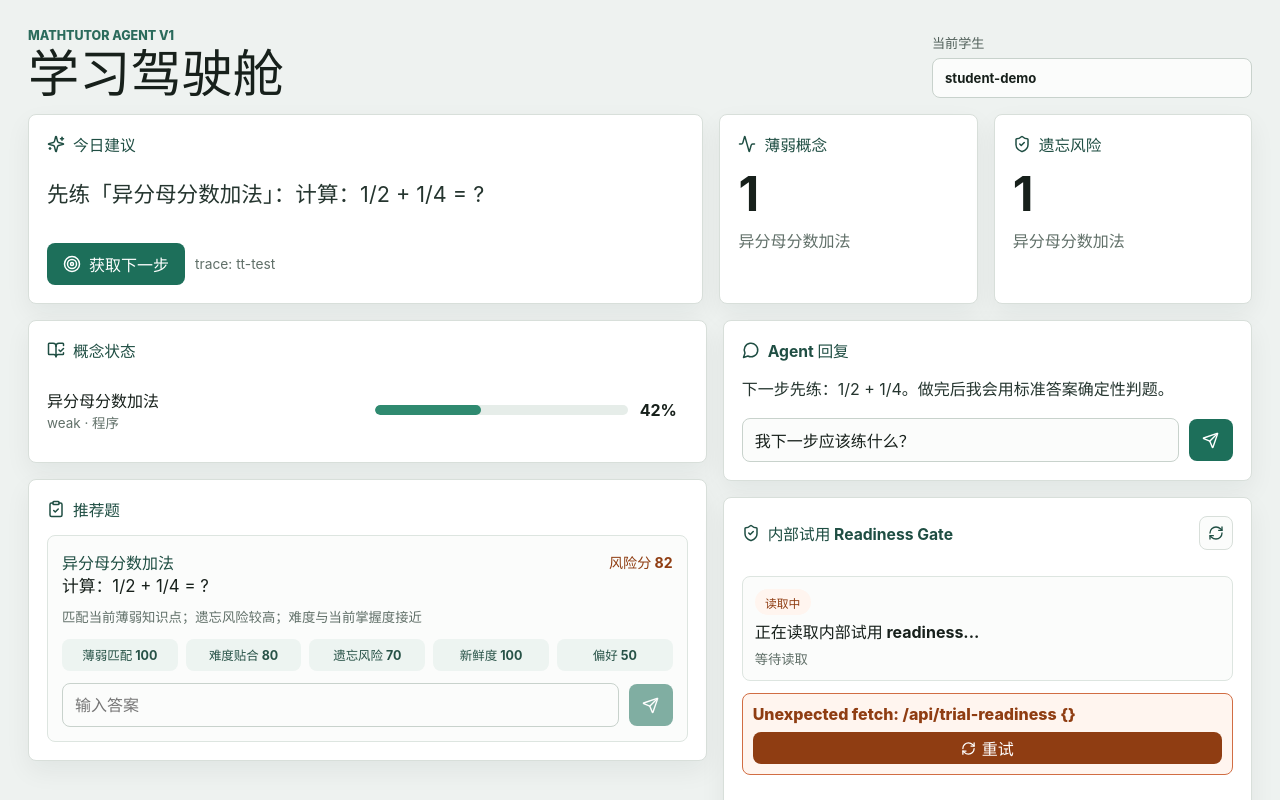
Scenario: 学习驾驶舱 › Provider Health 降级时仍可用 fallback 提交推荐题答案
Expected: the text "计算：1/2 + 1/4 = ?" is shown, [62,576,209,596]
In the field named "q_frac_001 答案": (340,705) [62,683,619,727], type "3/4"
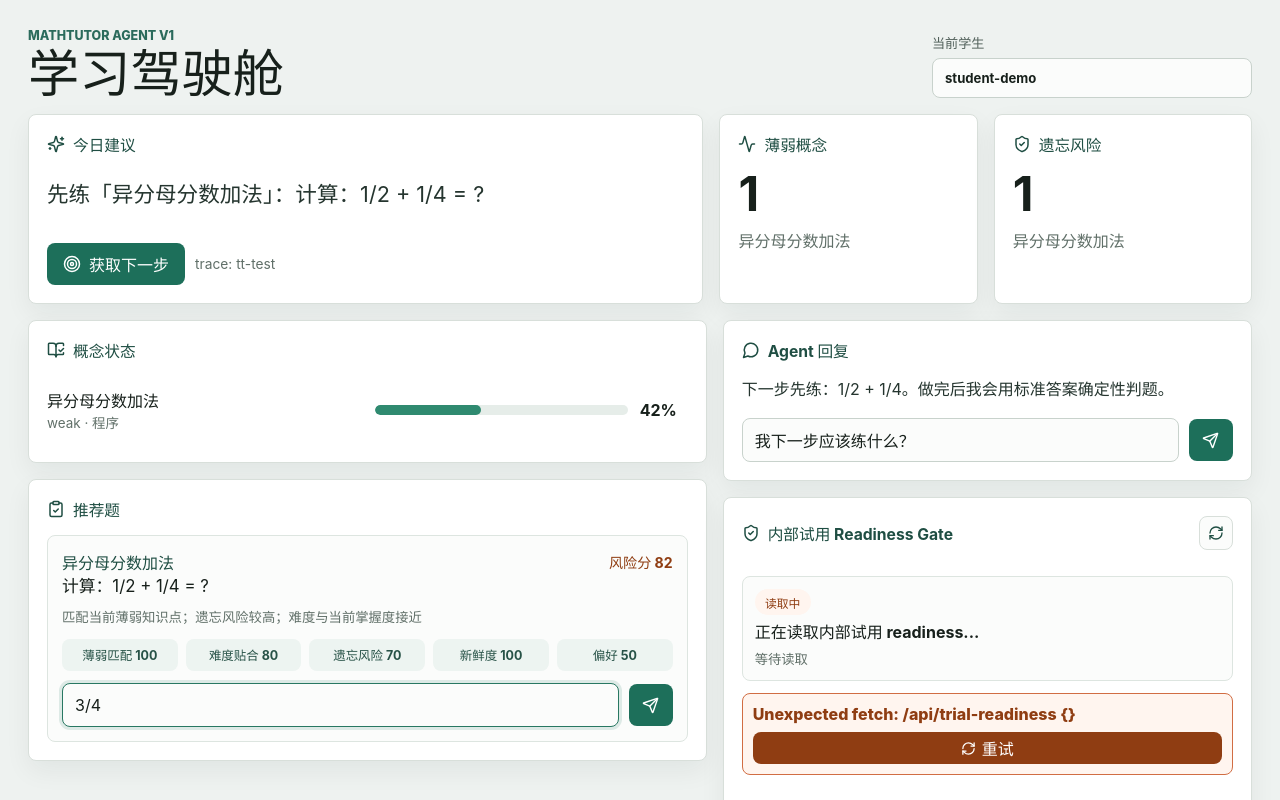
Click the button named "提交答案": (651,705) [629,684,673,726]
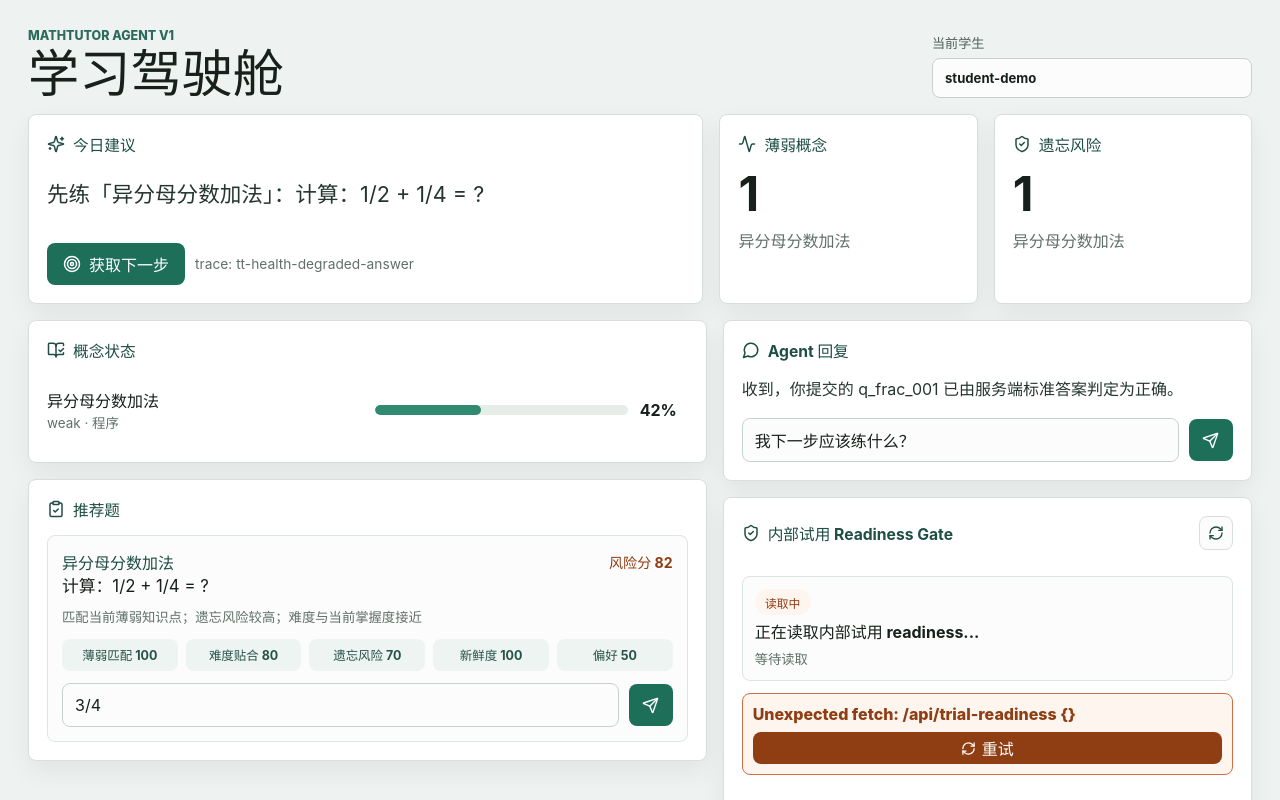
Now the text "收到，你提交的 q_frac_001 已由服务端标准答案判定为正确。" is shown, box [742,376,1233,402]
